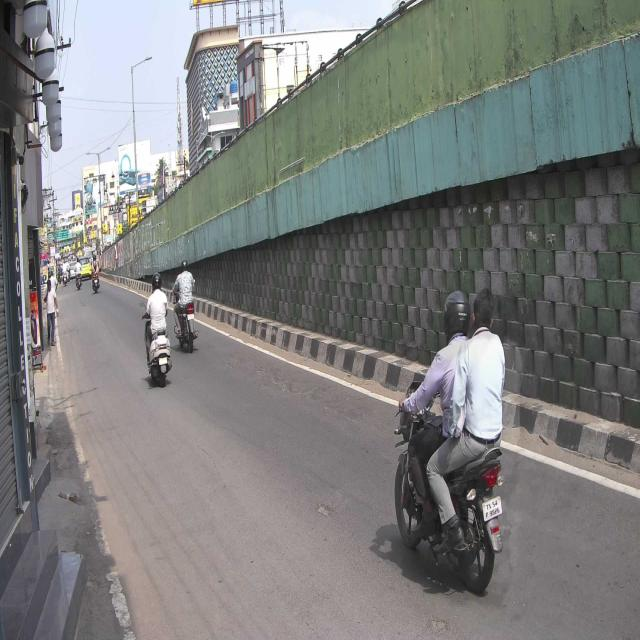double_rider: (395, 284, 505, 593)
